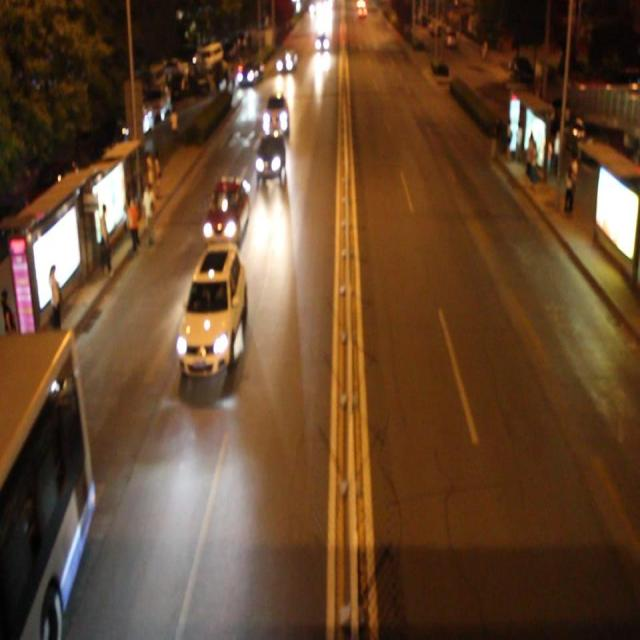car: (179, 242, 247, 372), (204, 174, 251, 246), (254, 131, 285, 180), (261, 92, 288, 136)
van: (1, 327, 96, 640)
